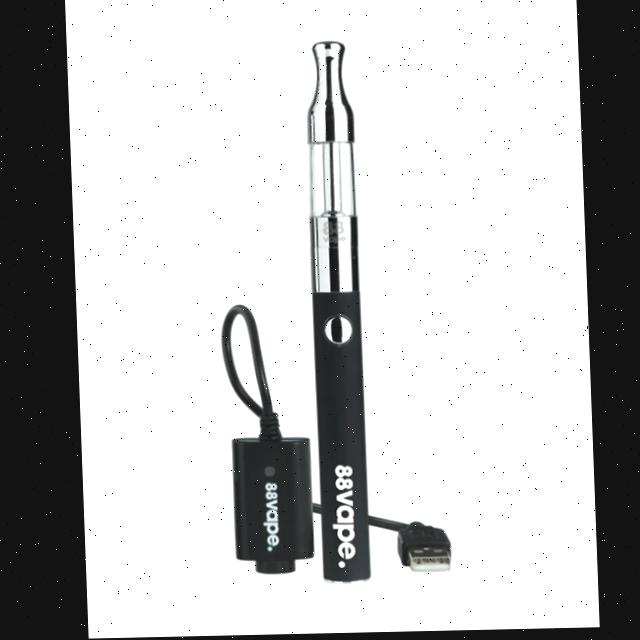vape: (301, 41, 368, 588)
